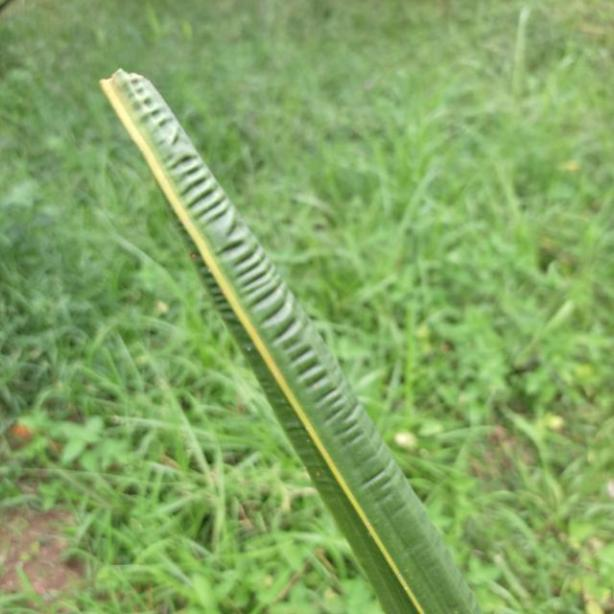Boron: (94, 67, 475, 614)
